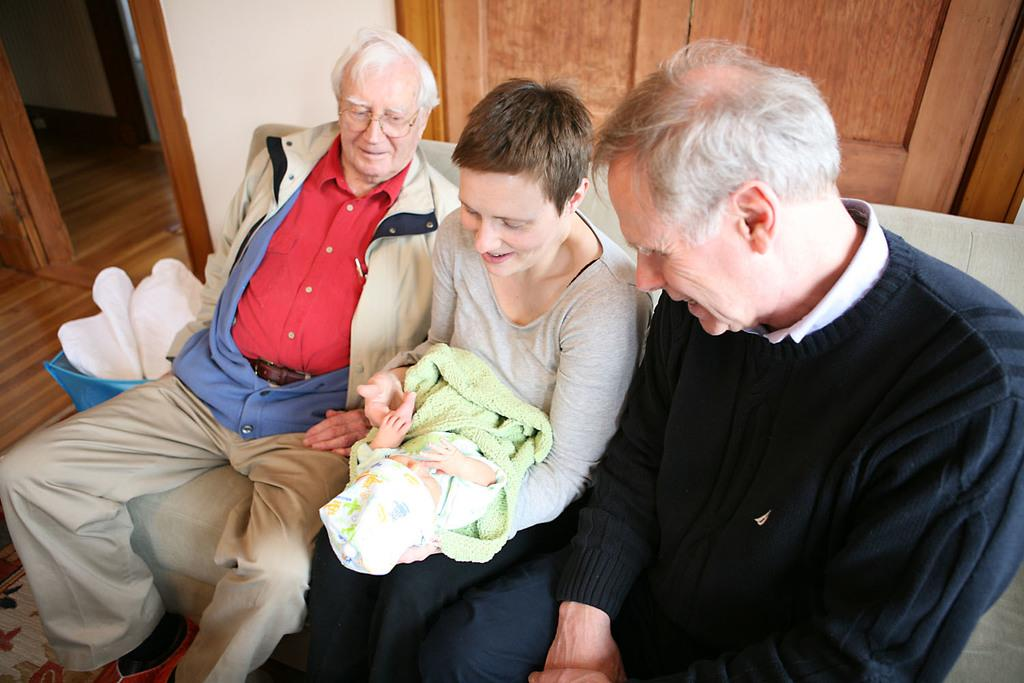Sem Máscara: (625, 200, 751, 333), (459, 180, 553, 274), (333, 74, 418, 169)
